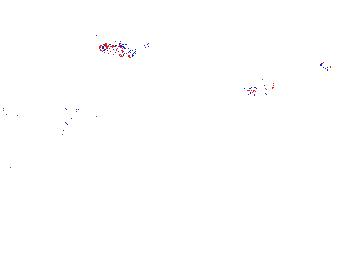X-ray fish: (186, 1, 243, 34)
glassfish: (62, 102, 133, 141), (1, 102, 45, 153)
red belly glassfish: (97, 38, 153, 57), (243, 79, 277, 99), (318, 59, 334, 73)
